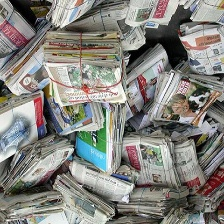news_paper: (44, 27, 130, 107), (0, 16, 65, 109), (47, 0, 150, 58), (0, 129, 75, 203), (113, 40, 172, 126), (141, 70, 223, 129), (117, 125, 181, 193), (73, 99, 126, 175), (0, 89, 50, 169), (42, 85, 106, 143), (49, 169, 116, 224), (64, 157, 142, 204), (0, 0, 40, 81), (109, 182, 194, 219), (174, 18, 224, 80), (165, 132, 208, 199), (0, 182, 67, 223), (119, 0, 183, 34), (44, 0, 105, 28), (190, 168, 224, 213), (197, 131, 224, 178), (180, 0, 224, 26), (153, 202, 203, 223)
